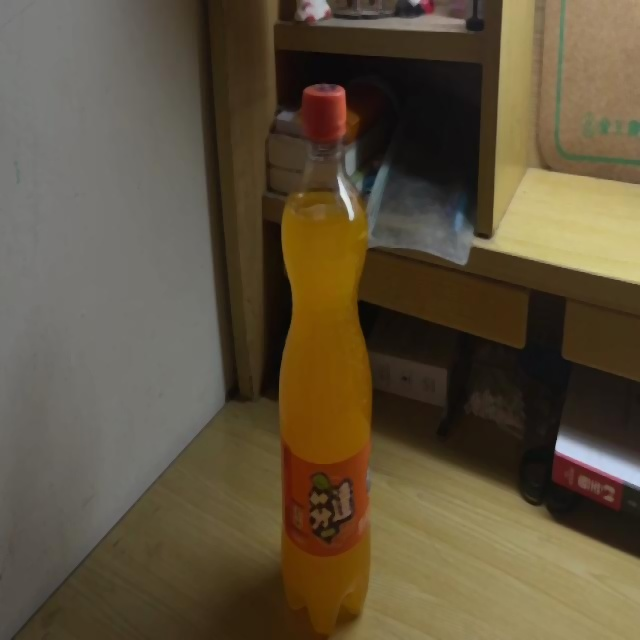Fanta: (279, 82, 372, 635)
